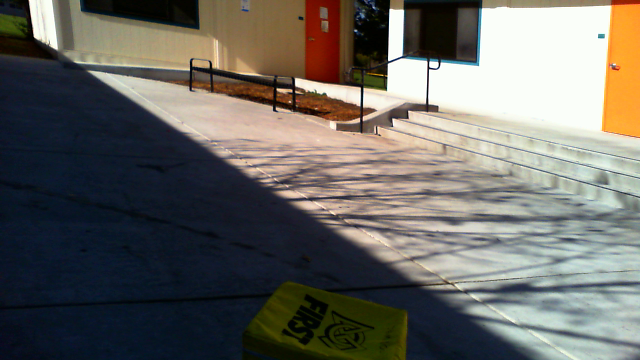cube: (242, 282, 408, 360)
